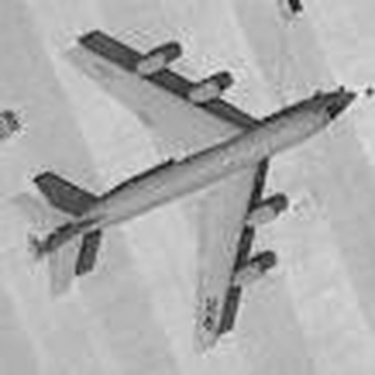airplane: (11, 5, 361, 360)
